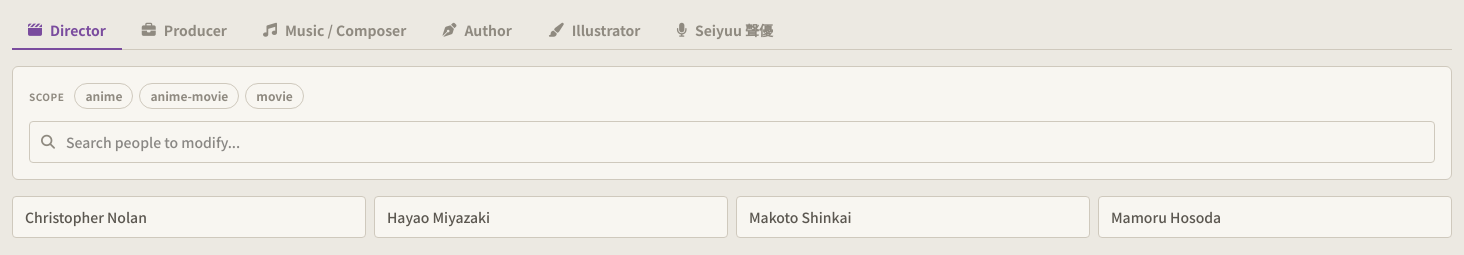
offers no scope filter for a role with a single legal scope
expect the button "anime-movie" is shown: met, box [139,83,239,109]
Click the button "Producer" at (184,31), box [126,12,243,50]
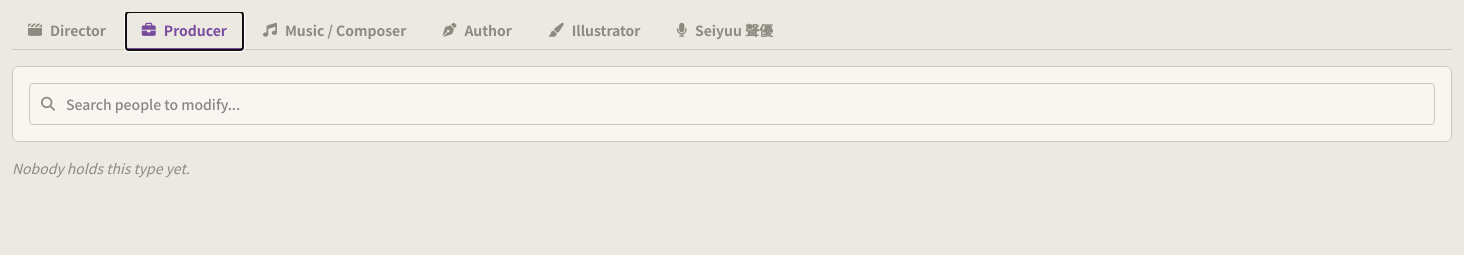
expect the button "anime-movie" is gone: met
expect the button "anime" is gone: met
